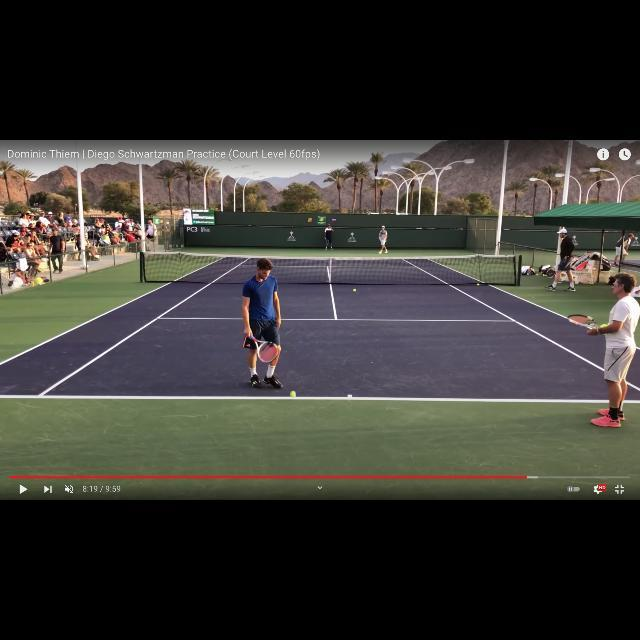tennis-ball: (290, 390, 296, 396), (353, 289, 356, 292)
